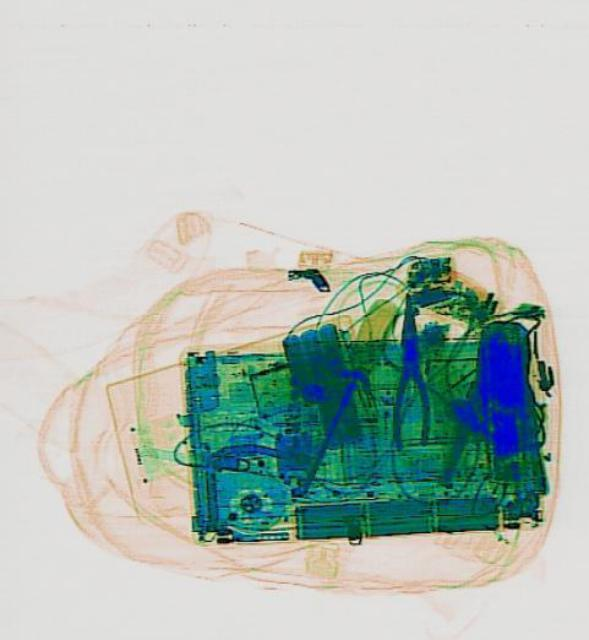Pliers: (386, 289, 431, 449)
